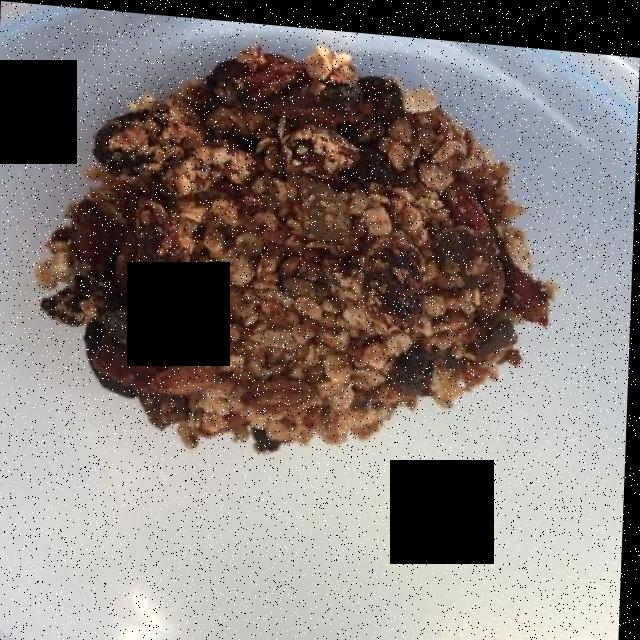crunch-muesli: (43, 50, 538, 444)
mixed-seeds: (145, 113, 472, 417)
